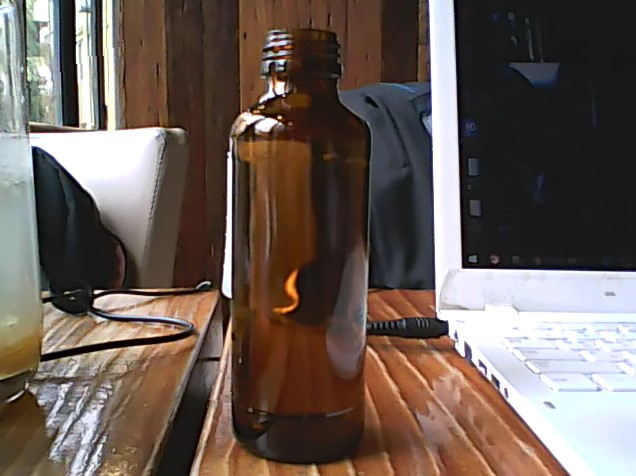Glass: (226, 25, 369, 466)
